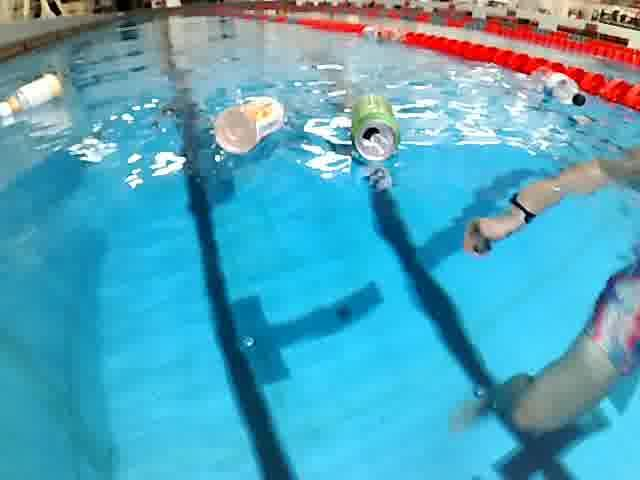Bottle: (210, 93, 290, 157), (0, 68, 70, 126), (531, 68, 593, 112)
Can: (346, 91, 402, 167)
